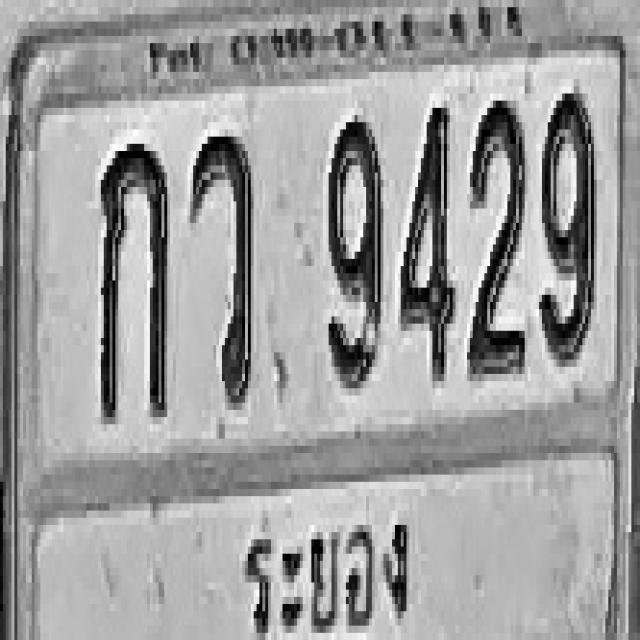10GorGai: (98, 137, 167, 417)
2: (469, 90, 526, 370)
4: (399, 97, 454, 378)
46WorWaen: (189, 129, 252, 403)
9: (327, 111, 382, 385), (539, 86, 594, 360)
Rayong: (231, 491, 413, 640)
